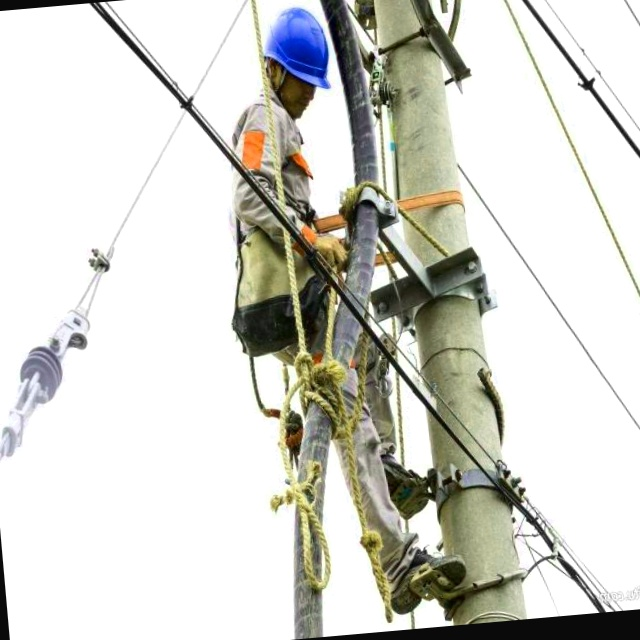Con_Casco: (257, 7, 333, 116)
